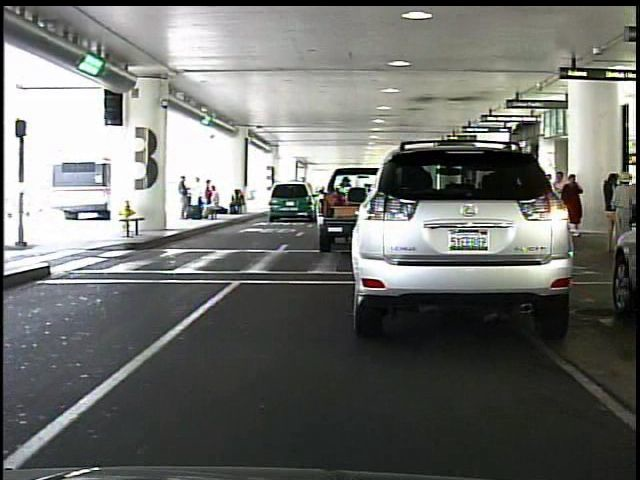person: (610, 170, 638, 257), (560, 170, 587, 239), (600, 166, 620, 253), (550, 169, 568, 237), (172, 172, 192, 224)
